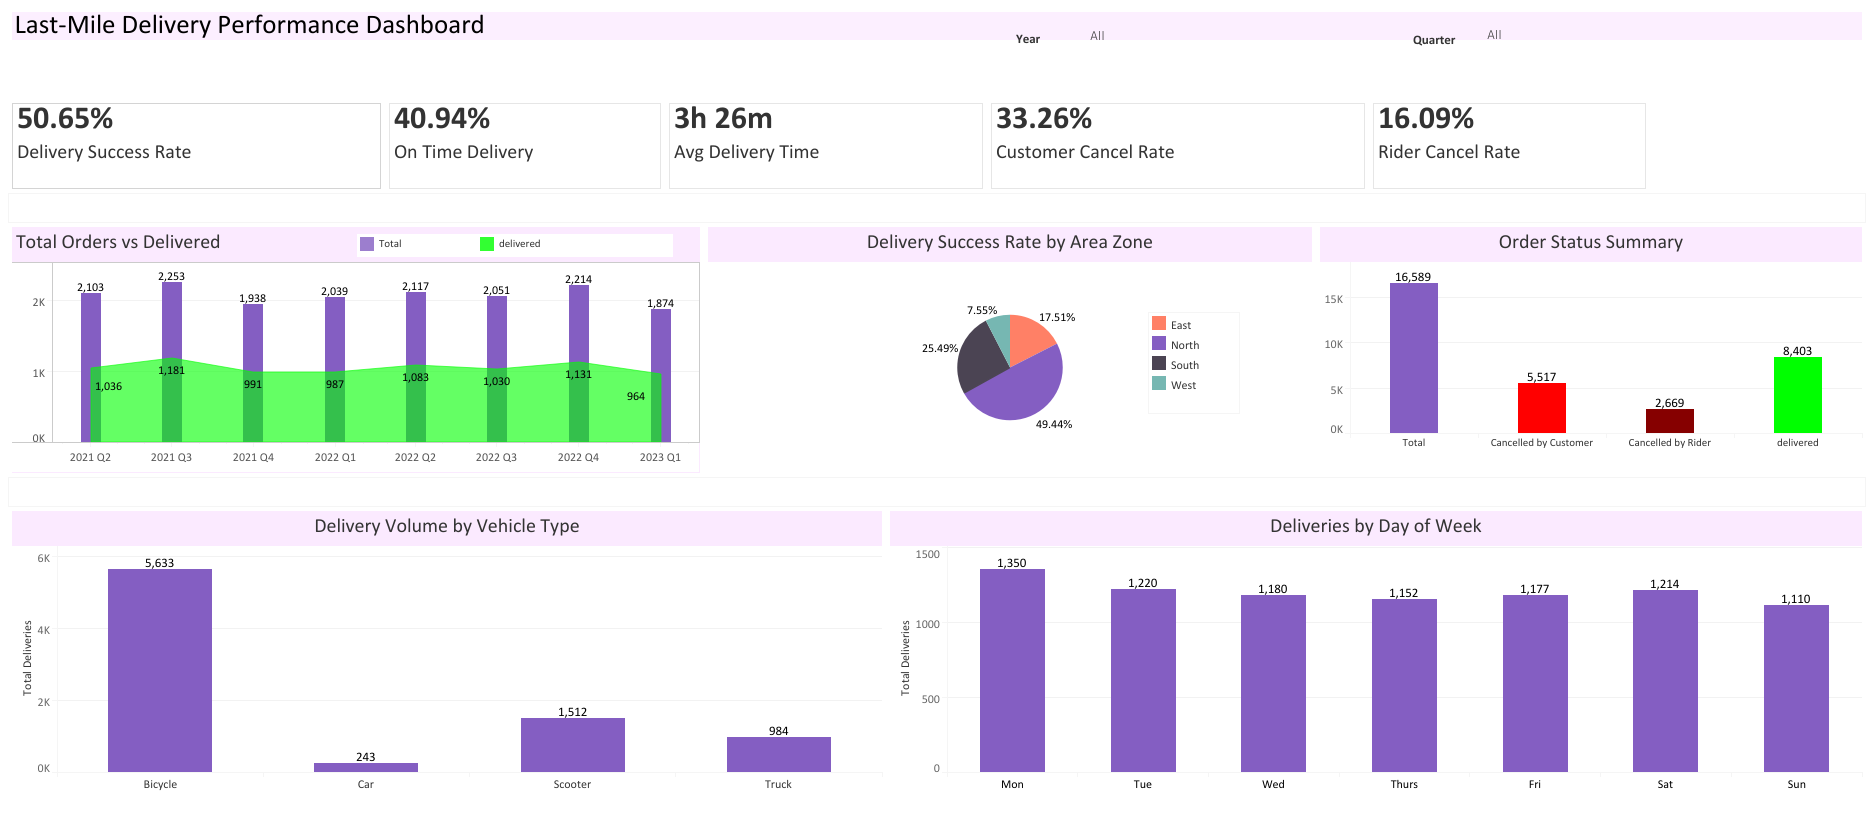

What the dashboard file says about the page in this screenshot:
{"tool":"tableau","page":{"name":"Dashboard 1","canvas":[1000,1000],"units":"permille","ordinal":0},"visuals":[{"type":"text","box":[4.8,9.1,990.3,56]},{"type":"filter","title":"Delivery sucess rate by area zone","param":"[federated.1tofc9k1csp63i12sn09a05bvc0t].[qr:Delivered on:ok]","box":[754.1,30.9,149.9,30.9]},{"type":"filter","title":"Delivery sucess rate by area zone","param":"[federated.1tofc9k1csp63i12sn09a05bvc0t].[yr:Delivered on:ok]","box":[542.2,32,190.7,25.1]},{"type":"worksheet","title":"delivery sucess rate KPI","mark":"Automatic","box":[4.8,121.1,201,115.4]},{"type":"worksheet","title":"OT delivery rate - KPI","mark":"Automatic","box":[205.8,121.1,169,115.4]},{"type":"worksheet","title":"Avg delivery time KPI","mark":"Automatic","box":[374.8,121.1,194.3,115.4]},{"type":"worksheet","title":"customer cancalled order rate KPI","mark":"Automatic","box":[569.1,121.1,230.5,115.4]},{"type":"worksheet","title":"Cancelled by rider KPI","mark":"Automatic","box":[799.7,121.1,169.6,115.4]},{"type":"worksheet","title":"total orders/delivered","mark":"Bar","rows":["Calculation_1086493420270673923","Calculation_1086493420269907968"],"cols":["Order Date"],"box":[4.8,273.1,370.8,312]},{"type":"worksheet","title":"Delivery sucess rate by area zone","mark":"Pie","box":[375.6,273.1,326.6,312]},{"type":"worksheet","title":"Delivery status (2)","mark":"Bar","box":[702.2,273.1,293,312]},{"type":"legend","title":"total orders/delivered","param":"[federated.1tofc9k1csp63i12sn09a05bvc0t].[:Measure Names]","box":[190.7,286.9,168.4,28.6]},{"type":"legend","title":"Delivery sucess rate by area zone","param":"[federated.1tofc9k1csp63i12sn09a05bvc0t].[none:Order Area Zone:nk]","box":[612.7,382.9,49,124.6]},{"type":"worksheet","title":"delivery volume by vehicle type","mark":"Automatic","rows":["Calculation_1086493420269907968"],"cols":["Vehicle Type"],"box":[4.8,621.6,468,369.2]},{"type":"worksheet","title":"deliveries by day of week","mark":"Bar","rows":["Calculation_1086493420269907968"],"cols":["Calculation_574771912956694530"],"box":[472.8,621.6,522.4,369.2]}]}

Visuals, with their boxes on the dashboard's canvas, which has no fixed pixel size, in thousandths of its width and height (x1, y1, x2, y2). These are canvas units, not pixel positions in the 1873x814 screenshot, which may show the page scaled, cropped or inside an application window:
text: bbox=[5, 9, 995, 65]
"Delivery sucess rate by area zone" filter: bbox=[754, 31, 904, 62]
"Delivery sucess rate by area zone" filter: bbox=[542, 32, 733, 57]
"delivery sucess rate KPI" worksheet: bbox=[5, 121, 206, 236]
"OT delivery rate - KPI" worksheet: bbox=[206, 121, 375, 236]
"Avg delivery time KPI" worksheet: bbox=[375, 121, 569, 236]
"customer cancalled order rate KPI" worksheet: bbox=[569, 121, 800, 236]
"Cancelled by rider KPI" worksheet: bbox=[800, 121, 969, 236]
"total orders/delivered" worksheet (Bar marks): bbox=[5, 273, 376, 585]
"Delivery sucess rate by area zone" worksheet (Pie marks): bbox=[376, 273, 702, 585]
"Delivery status (2)" worksheet (Bar marks): bbox=[702, 273, 995, 585]
"total orders/delivered" legend: bbox=[191, 287, 359, 316]
"Delivery sucess rate by area zone" legend: bbox=[613, 383, 662, 508]
"delivery volume by vehicle type" worksheet: bbox=[5, 622, 473, 991]
"deliveries by day of week" worksheet (Bar marks): bbox=[473, 622, 995, 991]
